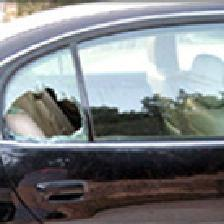glass_shatter: (5, 71, 114, 166)
